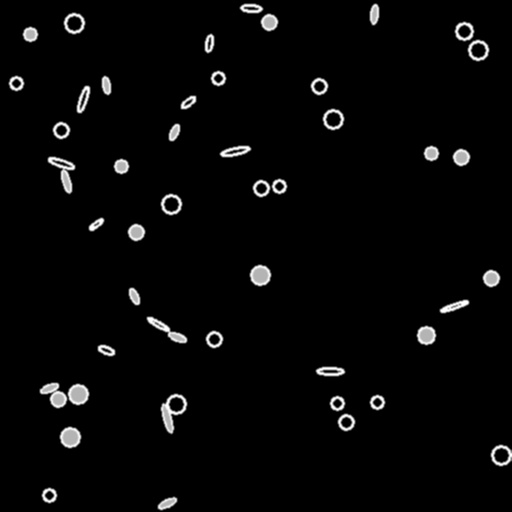pseudomonas: (146, 315, 170, 333), (439, 299, 469, 313), (76, 85, 90, 113), (47, 156, 75, 170), (160, 404, 174, 432), (220, 145, 250, 157), (179, 94, 197, 110), (60, 169, 72, 193), (157, 496, 177, 510), (167, 123, 181, 141), (88, 217, 104, 231), (168, 331, 186, 343), (40, 382, 58, 394), (97, 344, 115, 356), (128, 287, 140, 305), (101, 76, 111, 94), (241, 4, 261, 12), (204, 35, 214, 51), (317, 368, 343, 374), (370, 5, 378, 23)
synechocystis: (162, 195, 180, 213), (167, 395, 185, 413), (251, 266, 269, 284), (65, 14, 83, 32), (469, 41, 487, 59), (69, 385, 87, 403), (324, 110, 342, 128), (492, 446, 510, 464), (61, 428, 79, 446), (418, 327, 434, 343), (456, 23, 472, 39), (51, 392, 65, 406), (454, 150, 468, 164), (54, 123, 68, 137), (262, 15, 276, 29), (254, 181, 268, 195), (484, 271, 498, 285), (312, 79, 326, 93), (207, 332, 221, 346), (339, 415, 353, 429), (129, 225, 143, 239), (371, 396, 383, 408), (43, 489, 55, 501), (212, 72, 224, 84), (10, 77, 22, 89), (115, 160, 127, 172), (331, 397, 343, 409), (425, 147, 437, 159), (273, 180, 285, 192), (24, 28, 36, 40)
